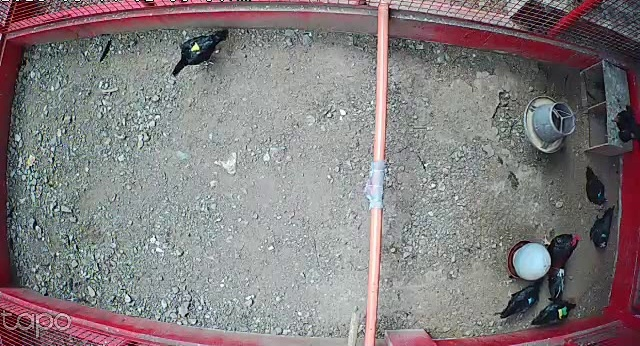Chicken: (172, 26, 229, 79), (498, 280, 541, 319), (587, 201, 616, 254), (529, 300, 577, 331), (611, 103, 640, 152), (583, 165, 610, 210)
Rooster: (536, 230, 580, 300)
Saddle_Color_Blue: (528, 297, 533, 305)
Saddle_Color_Yellow: (188, 40, 202, 55)
Saddle_Color_YellowGreen: (558, 306, 567, 318)
